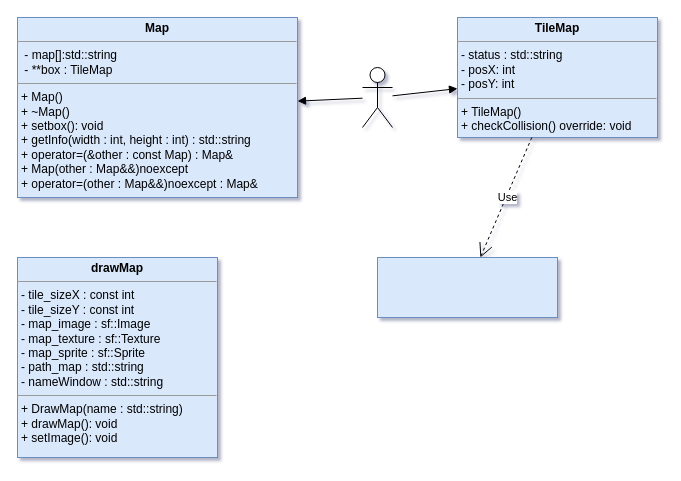
This 681x481 diagram has some shape labels left out. Each missing label, with the centre of its shape:
"Friend Class" belongs at point (377, 97).
"iCollision + checkCollision()=0: virtual void" belongs at point (467, 287).
